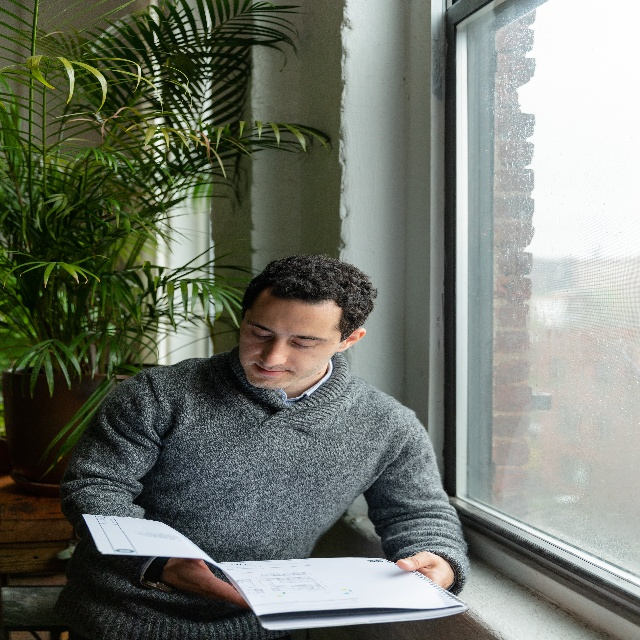Sin_guantes: (165, 556, 244, 610), (399, 552, 458, 589)
